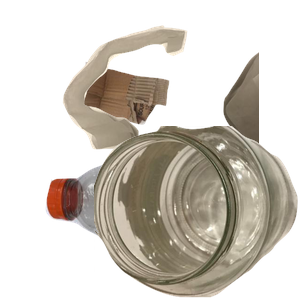cardboard: (75, 59, 237, 176)
glass: (94, 126, 300, 300)
plastic: (43, 152, 283, 300)
trash: (60, 23, 300, 203)
